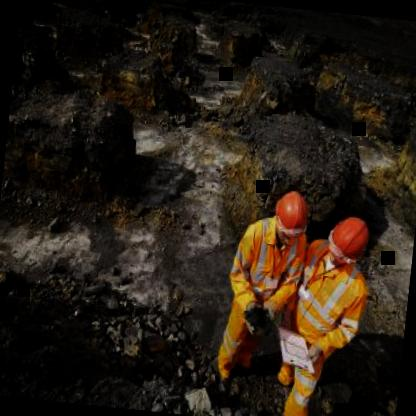helmet: (324, 212, 374, 270), (270, 187, 312, 243)
